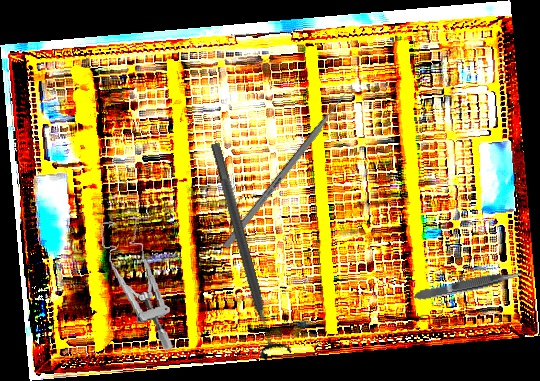Fixation Ring: (199, 138, 293, 362)
Pusher: (222, 82, 356, 250)
Speculum: (99, 212, 175, 357)
Tissue Forceps: (412, 267, 527, 303)
